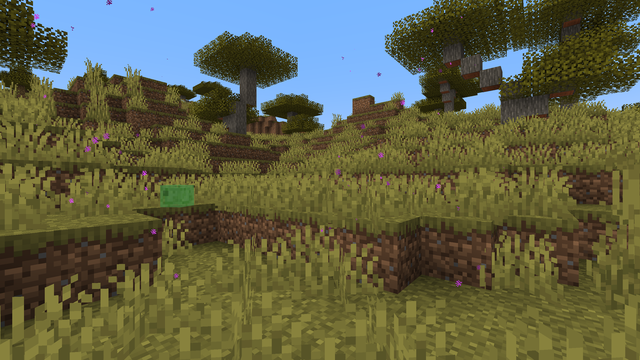slimes: (161, 183, 193, 206)
